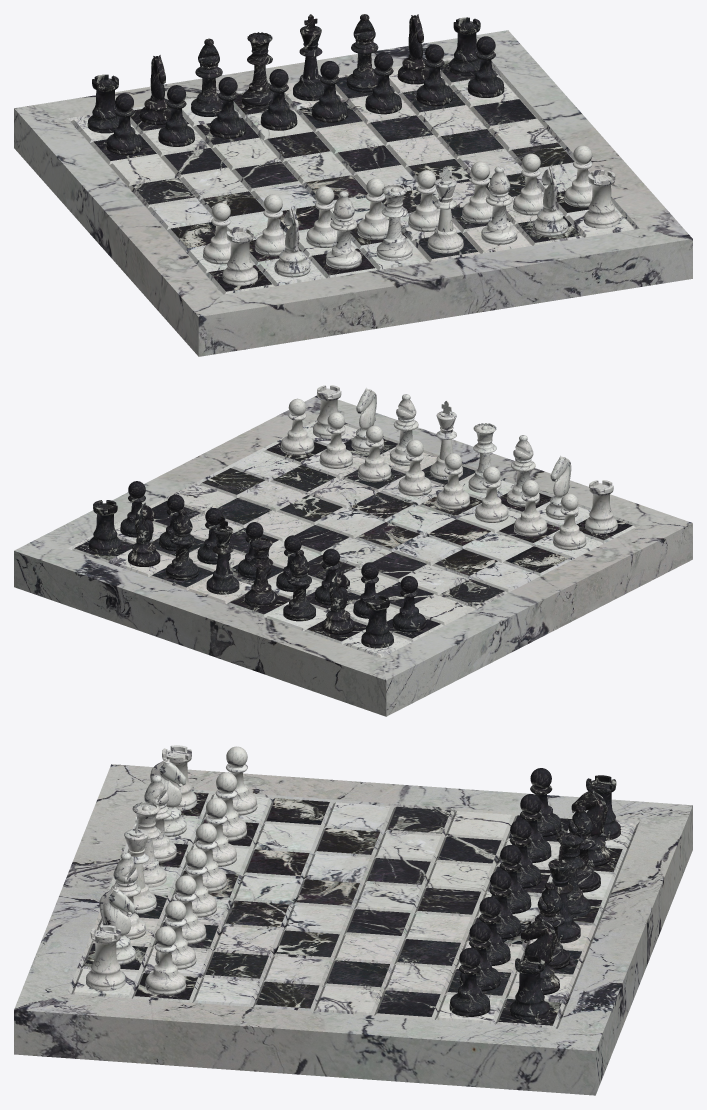
The model's file is obj_chess_demo_0fb262.glb.
3 renders of one model, top to bottom at view 1: azimuth 30°, elevation 25°; view 2: azimuth 150°, elevation 25°; view 3: azimuth 270°, elevation 25°, orthographic. The views are drawn at different scales.
Visible parts, largest first — view 1: obj_chess_demo_0fb262; view 2: obj_chess_demo_0fb262; view 3: obj_chess_demo_0fb262.
Part boxes in pixels (bbox=[...]): obj_chess_demo_0fb262: bbox=[14, 14, 692, 356]; obj_chess_demo_0fb262: bbox=[14, 385, 692, 716]; obj_chess_demo_0fb262: bbox=[14, 745, 692, 1095].
Size of the model in its own units: 0.4 by 0.0864 by 0.4.
Materials: 16 (16 with a texture image).
